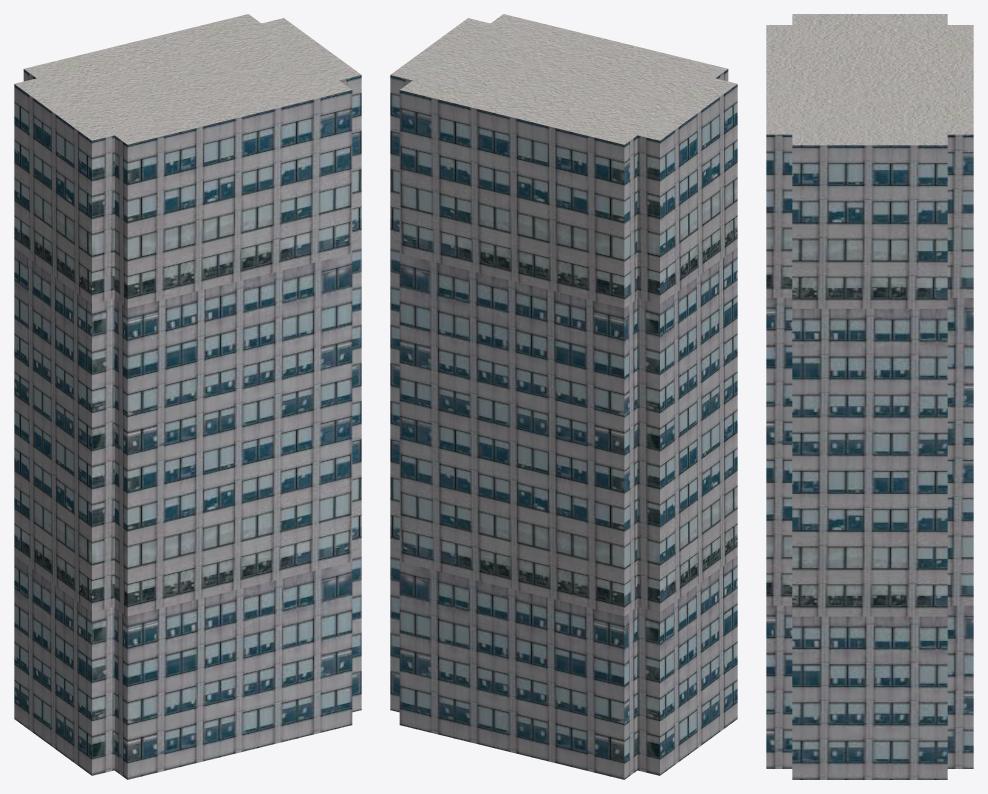
The model's file is building_025.fbx.
3 views of the same model, side by side, from view 1: azimuth 30°, elevation 25°; view 2: azimuth 150°, elevation 25°; view 3: azimuth 270°, elevation 25° (orthographic).
Visible parts, largest first — view 1: building_025; view 2: building_025; view 3: building_025.
Part boxes in pixels (x1=…): building_025: x1=14, y1=14, x2=361, y2=779; building_025: x1=390, y1=14, x2=737, y2=779; building_025: x1=766, y1=14, x2=973, y2=779.
Bounding box in the file's own units: 1800 × 4050 × 1200.
